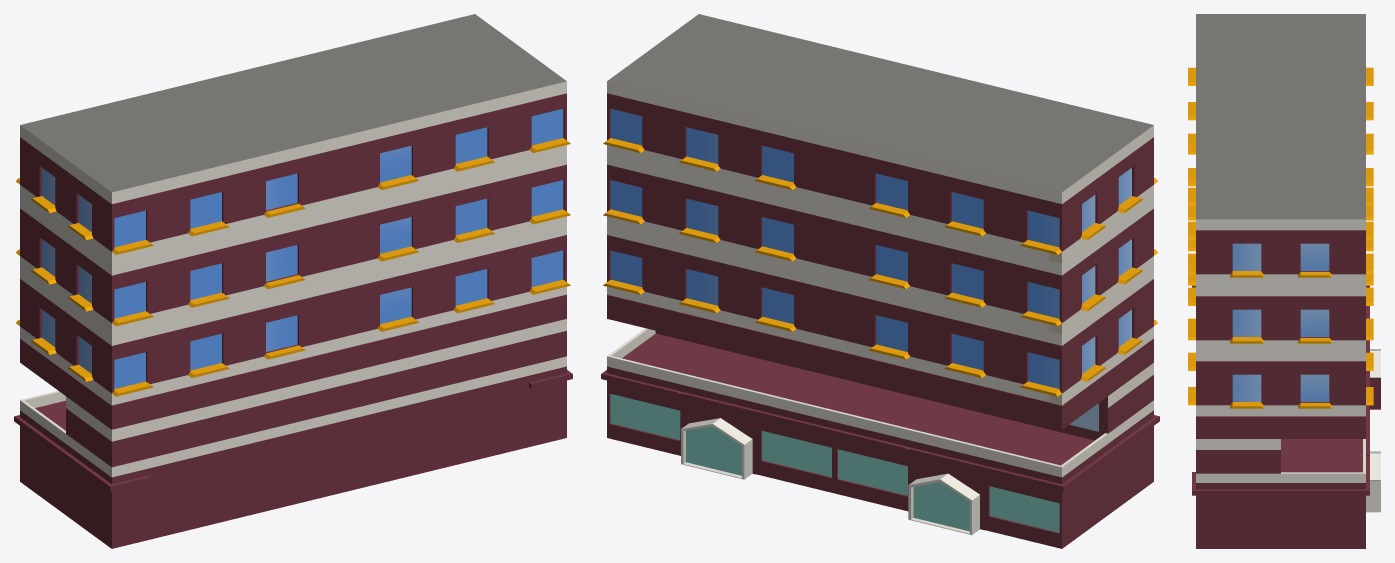
File: 2 spotsBuilding.fbx
3 views of the same model, side by side, from view 1: azimuth 30°, elevation 25°; view 2: azimuth 150°, elevation 25°; view 3: azimuth 270°, elevation 25° (orthographic). The views are drawn at different scales.
Visible parts, largest first — view 1: Box042, Box038, Box040, Box041, Box039; view 2: Box042, Box038, Box041, Box040, Box039; view 3: Box042, Box038, Box041, Box040, Box039.
Boxes of the visible parts, left/top/right/bottom form: Box042: left=16, top=14, right=570, bottom=263; Box038: left=14, top=366, right=572, bottom=548; Box040: left=16, top=223, right=570, bottom=405; Box041: left=16, top=153, right=570, bottom=333; Box039: left=20, top=294, right=566, bottom=477; Box042: left=603, top=14, right=1157, bottom=263; Box038: left=601, top=328, right=1159, bottom=548; Box041: left=603, top=153, right=1157, bottom=334; Box040: left=603, top=224, right=1157, bottom=405; Box039: left=607, top=294, right=1153, bottom=443; Box042: left=1188, top=14, right=1373, bottom=285; Box038: left=1192, top=285, right=1380, bottom=548; Box041: left=1188, top=133, right=1373, bottom=351; Box040: left=1188, top=240, right=1373, bottom=416; Box039: left=1196, top=416, right=1365, bottom=482.
Size of the model in its own units: 813 by 590 by 312.
